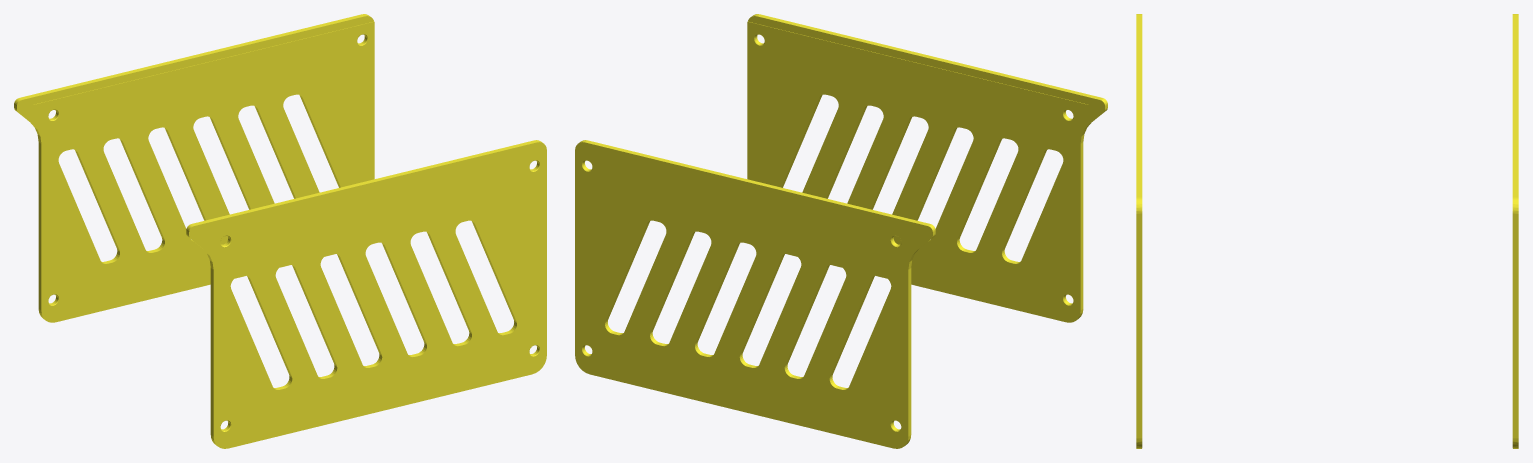
The model's file is Shell_Side.dae.
3 renders of one model, left to right at view 1: azimuth 30°, elevation 25°; view 2: azimuth 150°, elevation 25°; view 3: azimuth 270°, elevation 25°, orthographic. The views are drawn at different scales.
Visible parts, largest first — view 1: Shell_Side; view 2: Shell_Side; view 3: Shell_Side.
Part boxes in pixels (x1,y1,x2,y2): Shell_Side: [14, 14, 546, 448]; Shell_Side: [575, 14, 1107, 448]; Shell_Side: [1136, 14, 1518, 448].
Size of the model in its own units: 0.073 by 0.0618 by 0.045.
Materials: 1 (1 with a texture image).
